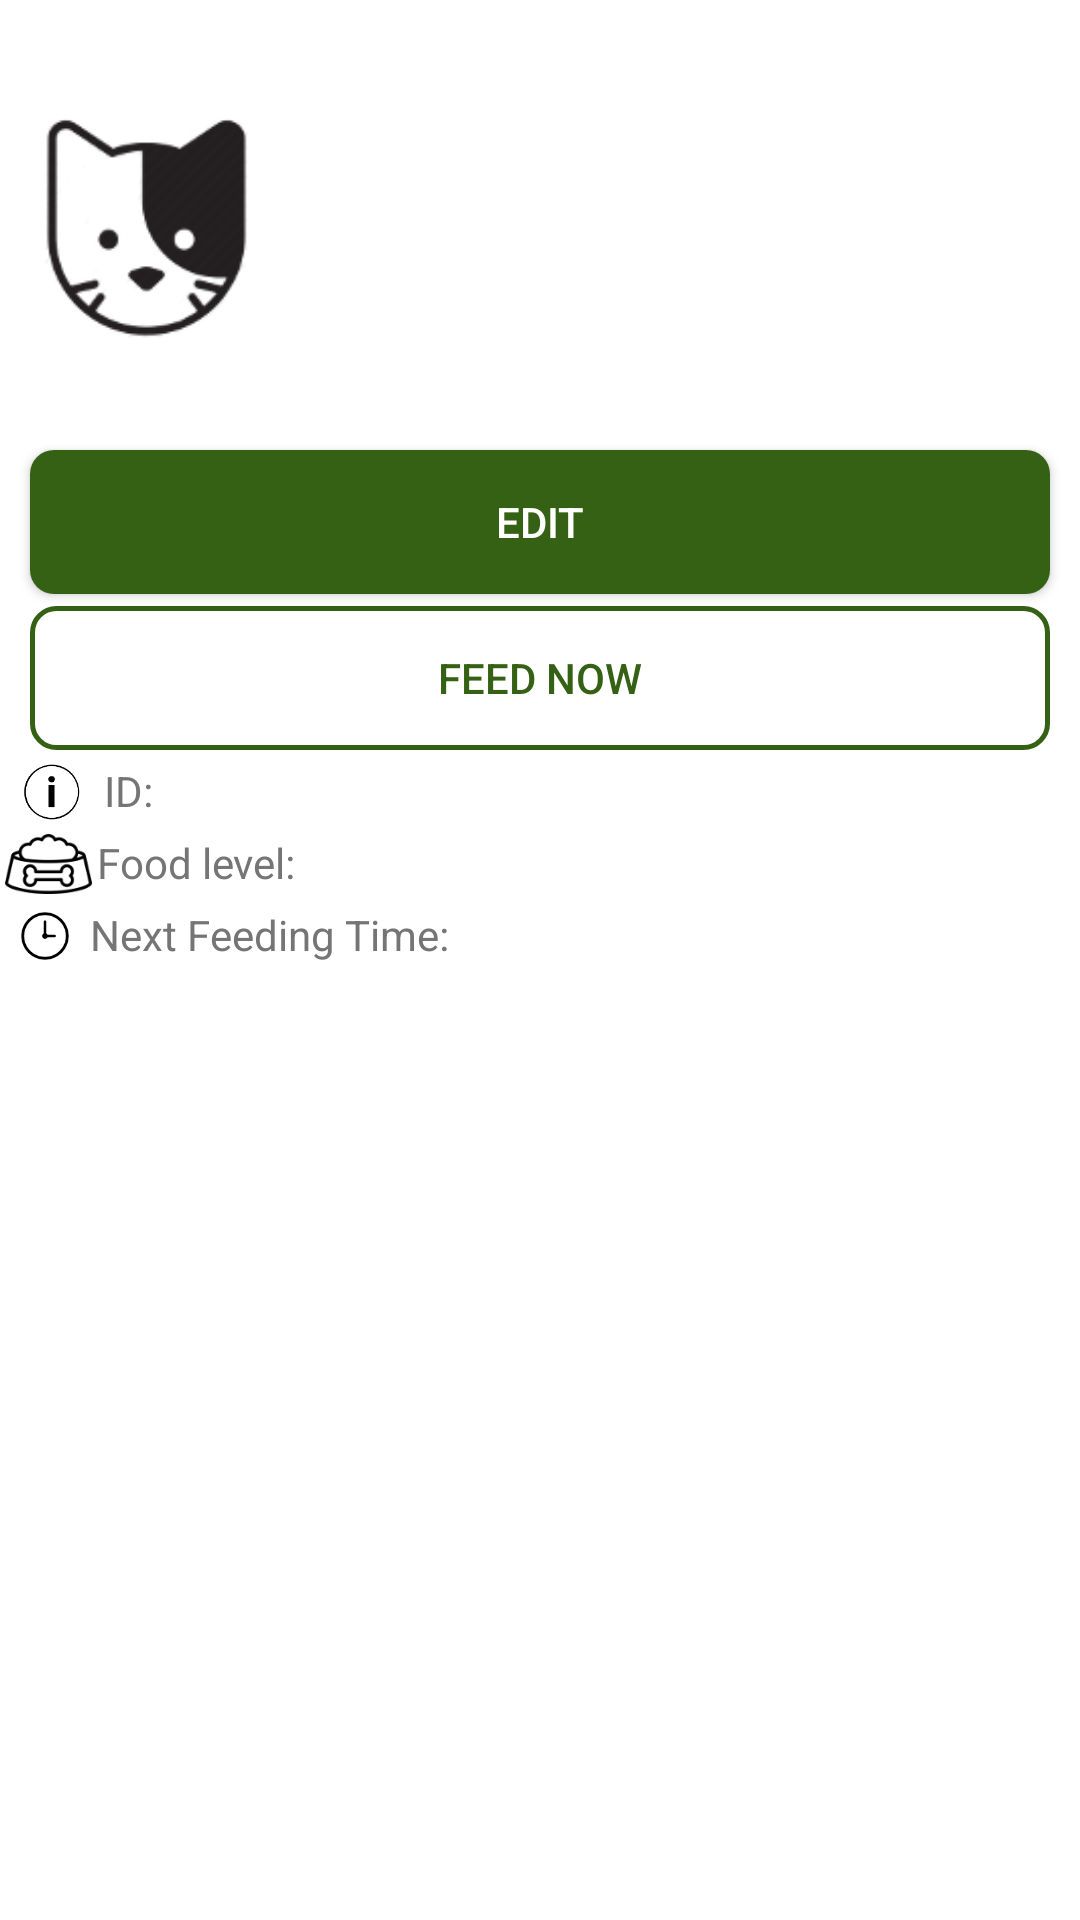

Point at icon controls on the screen. Image size 1080px×1920px, points as [x,y].
catface: [146,228]
clock: [45,936]
foodicon: [48,864]
infoicon: [52,792]
